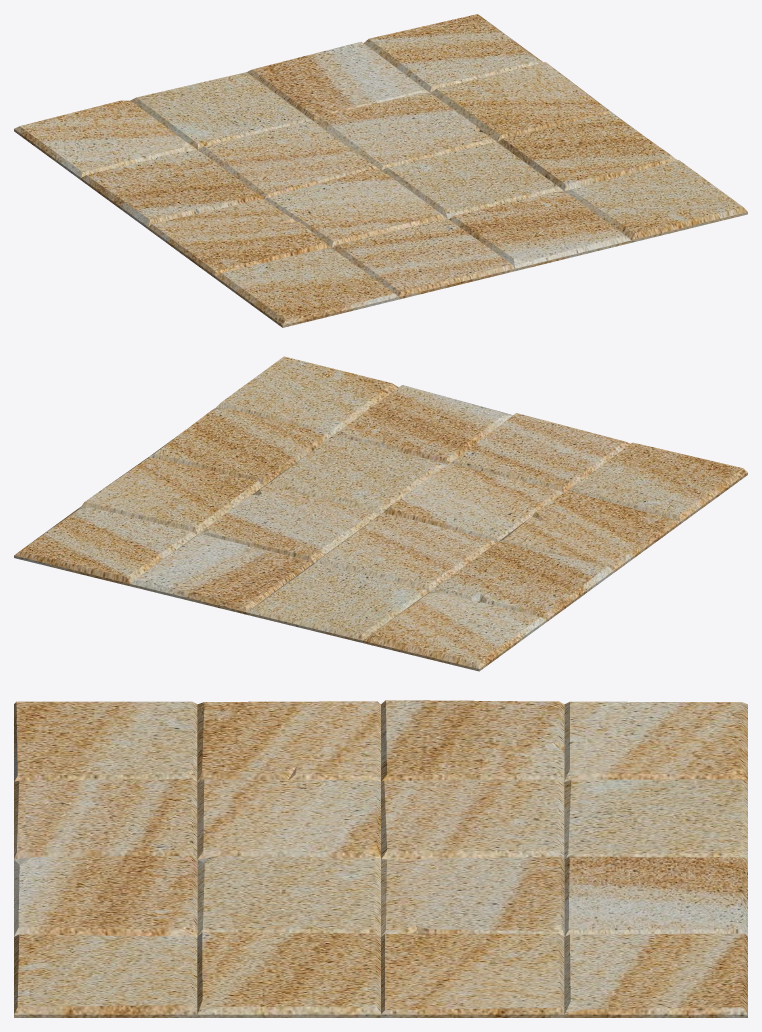
Rendered from FloorSandstone.fbx.
3 renders of one model, top to bottom at view 1: azimuth 30°, elevation 25°; view 2: azimuth 150°, elevation 25°; view 3: azimuth 270°, elevation 25°, orthographic. The views are drawn at different scales.
Parts seen in each view (by area): view 1: polySurface1; view 2: polySurface1; view 3: polySurface1.
Boxes of the visible parts, x1,y1,x2,y2 form: polySurface1: (14, 14, 747, 327); polySurface1: (14, 356, 747, 671); polySurface1: (14, 700, 747, 1017).
Bounding box in the file's own units: 400 × 6.42 × 400.
1 material, 1 textured.
